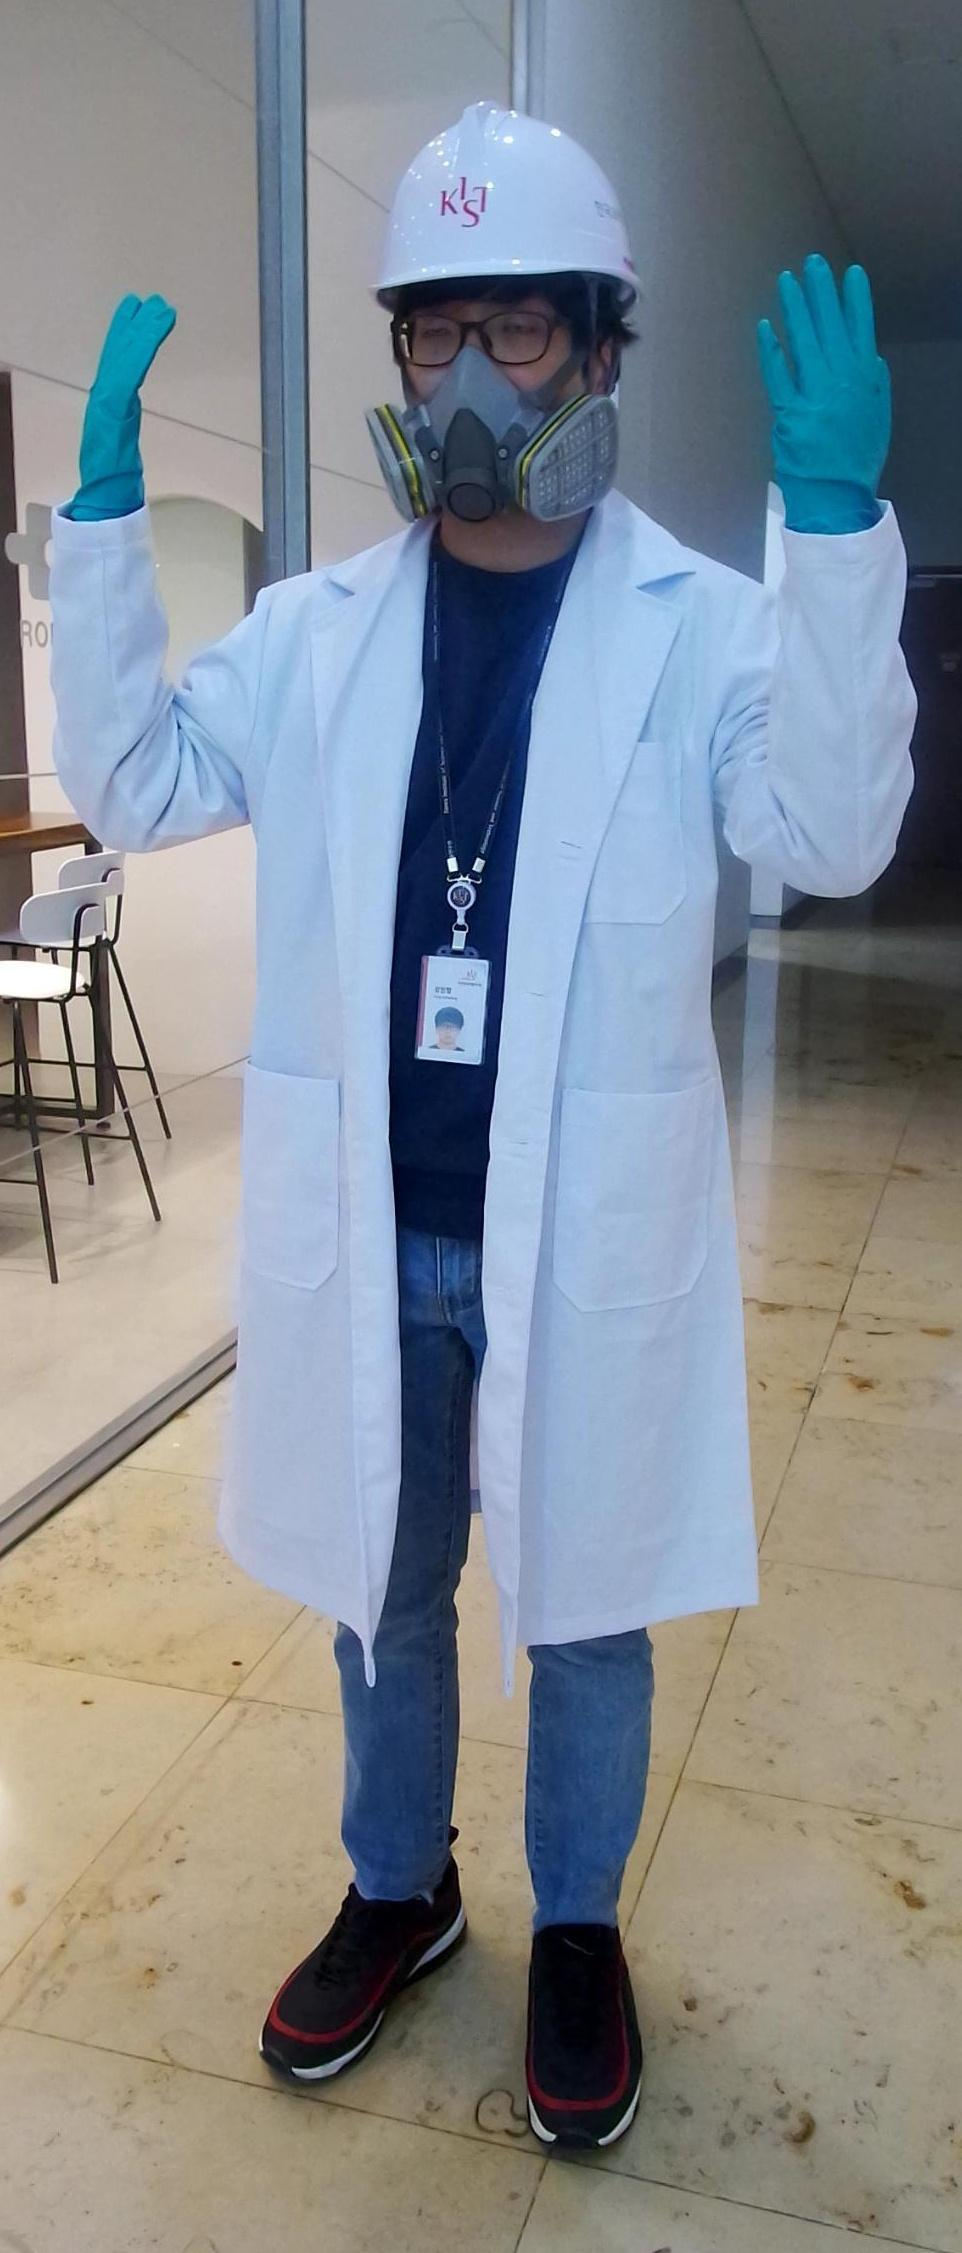lab_coat: (207, 532, 747, 1621)
